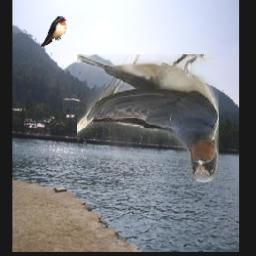Swallow: (77, 55, 219, 183), (40, 15, 66, 48)
